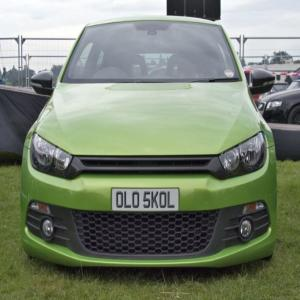Vehicle-registration-plate: (112, 186, 182, 213)
